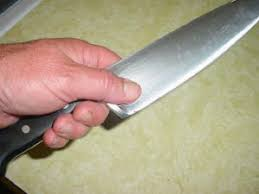knife: (3, 2, 259, 189)
